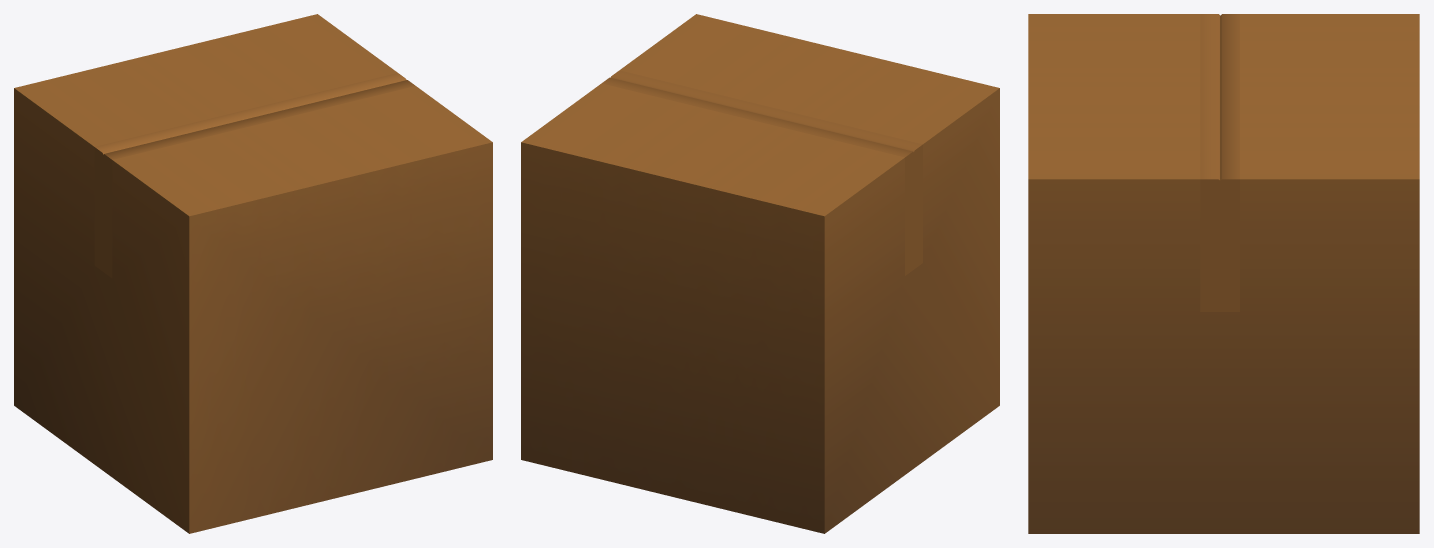
File: CardboardBox_80cm.fbx
3 views of the same model, side by side, from view 1: azimuth 30°, elevation 25°; view 2: azimuth 150°, elevation 25°; view 3: azimuth 270°, elevation 25° (orthographic). The views are drawn at different scales.
Visible parts, largest first — view 1: CardboardBox_80cm; view 2: CardboardBox_80cm; view 3: CardboardBox_80cm.
Part boxes in pixels (x1=…): CardboardBox_80cm: x1=14, y1=14, x2=492, y2=533; CardboardBox_80cm: x1=521, y1=14, x2=999, y2=533; CardboardBox_80cm: x1=1028, y1=14, x2=1419, y2=533.
Size of the model in its own units: 80 by 80 by 80.
